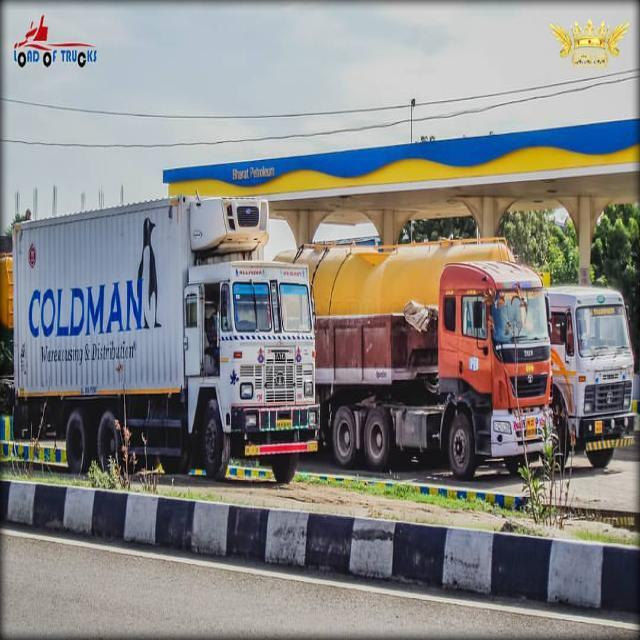Truck: (10, 191, 322, 477), (320, 264, 554, 486), (553, 282, 635, 472)
